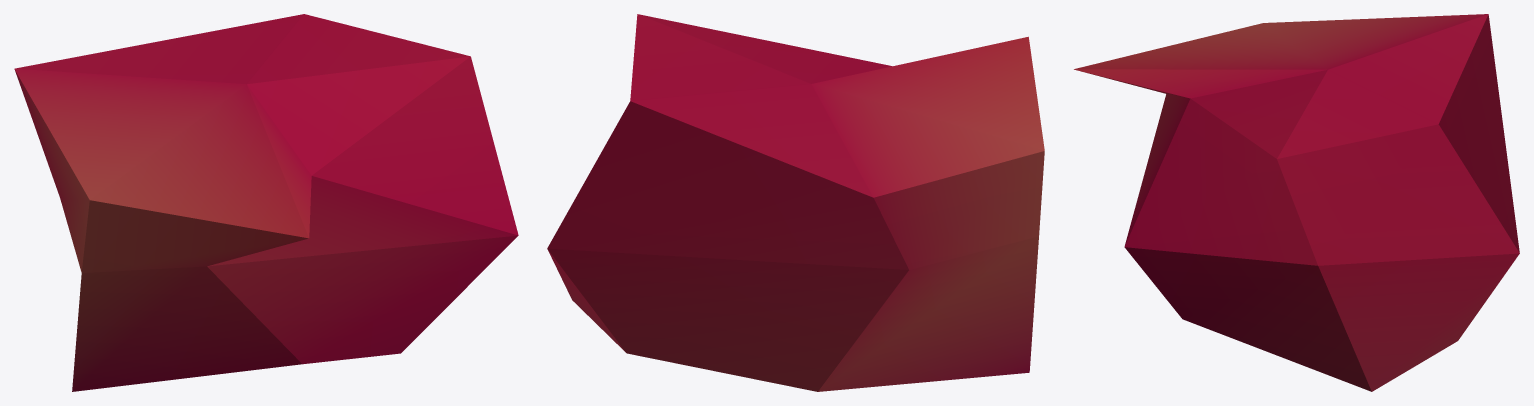
File: Rock_Desert_Small_01.glb
3 renders of one model, left to right at view 1: azimuth 30°, elevation 25°; view 2: azimuth 150°, elevation 25°; view 3: azimuth 270°, elevation 25°, orthographic. The views are drawn at different scales.
Parts seen in each view (by area): view 1: Rock_Desert_Small_01; view 2: Rock_Desert_Small_01; view 3: Rock_Desert_Small_01.
Boxes of the visible parts, bbox=[...] form: Rock_Desert_Small_01: bbox=[14, 14, 518, 391]; Rock_Desert_Small_01: bbox=[547, 14, 1044, 391]; Rock_Desert_Small_01: bbox=[1074, 14, 1519, 391].
Size of the model in its own units: 0.6174 by 0.3621 by 0.6369.
